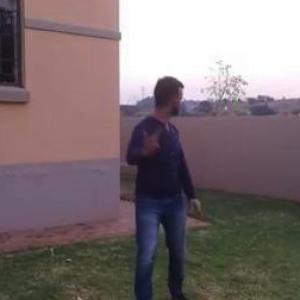takeoff-hand: (130, 115, 164, 156)
